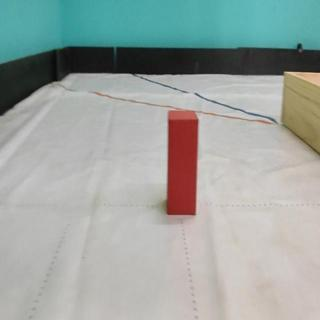redbox: (167, 109, 197, 216)
